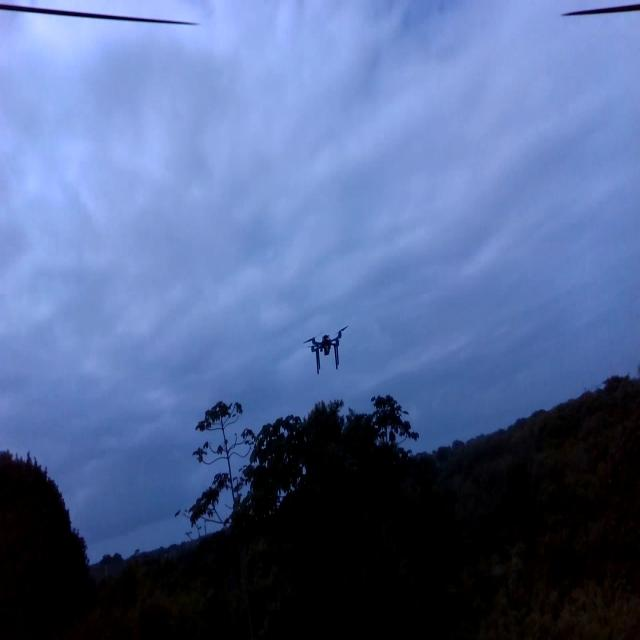-uav-: (287, 308, 366, 400)
